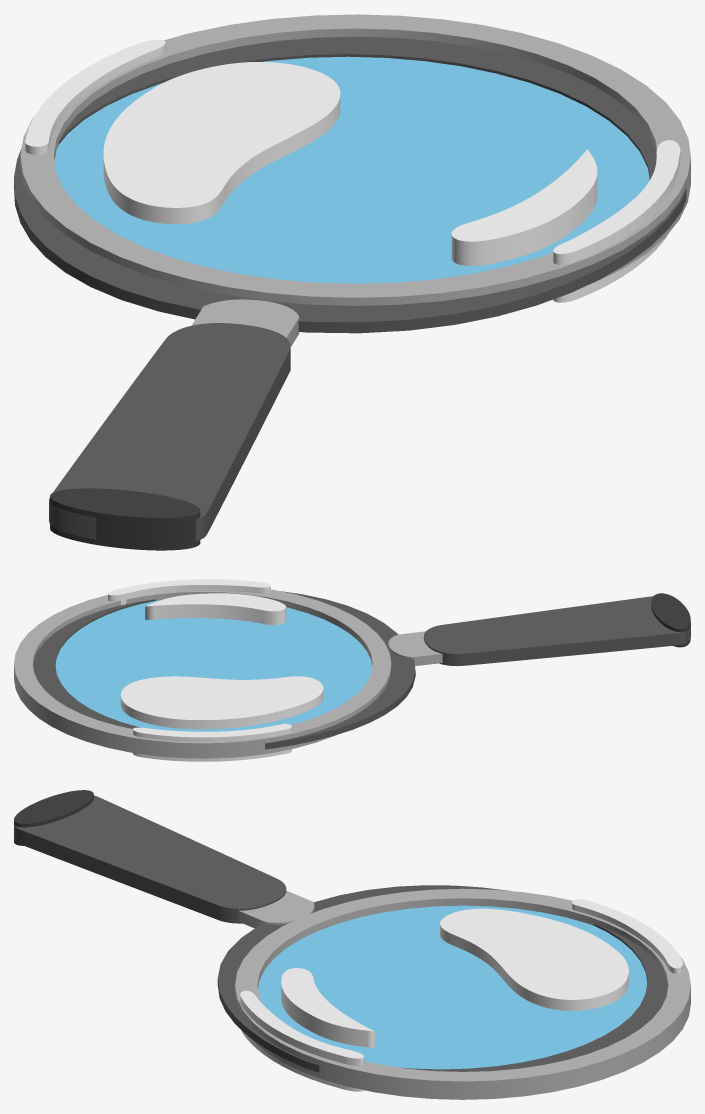
Rendered from emoji_u1f50e.glb.
3 renders of one model, top to bottom at view 1: azimuth 30°, elevation 25°; view 2: azimuth 150°, elevation 25°; view 3: azimuth 270°, elevation 25°, orthographic. The views are drawn at different scales.
Visible parts, largest first — view 1: emoji_u1f50e; view 2: emoji_u1f50e; view 3: emoji_u1f50e.
Boxes of the visible parts, x1=… form: emoji_u1f50e: x1=14, y1=14, x2=690, y2=550; emoji_u1f50e: x1=14, y1=579, x2=690, y2=761; emoji_u1f50e: x1=14, y1=790, x2=690, y2=1099.
Size of the model in its own units: 0.0337 by 0.002 by 0.0333.
